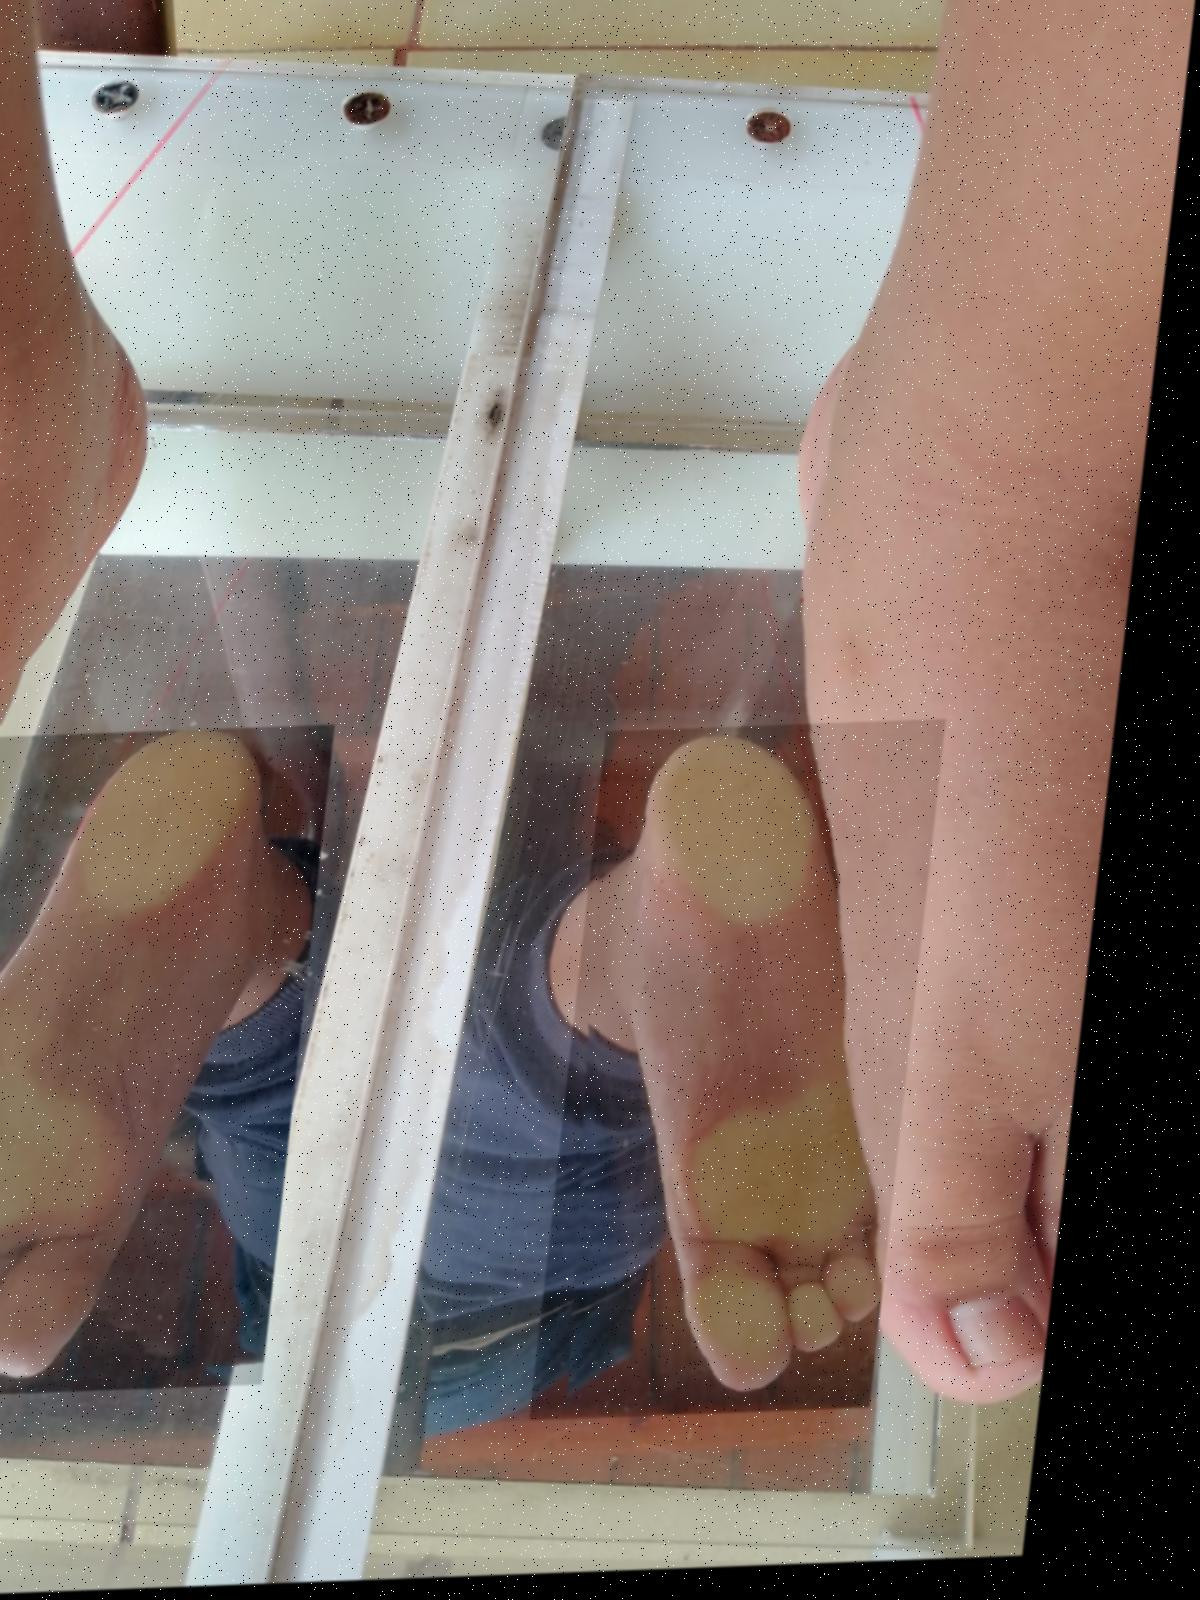1: (563, 728, 964, 1427)
Present: (0, 728, 353, 1400)
